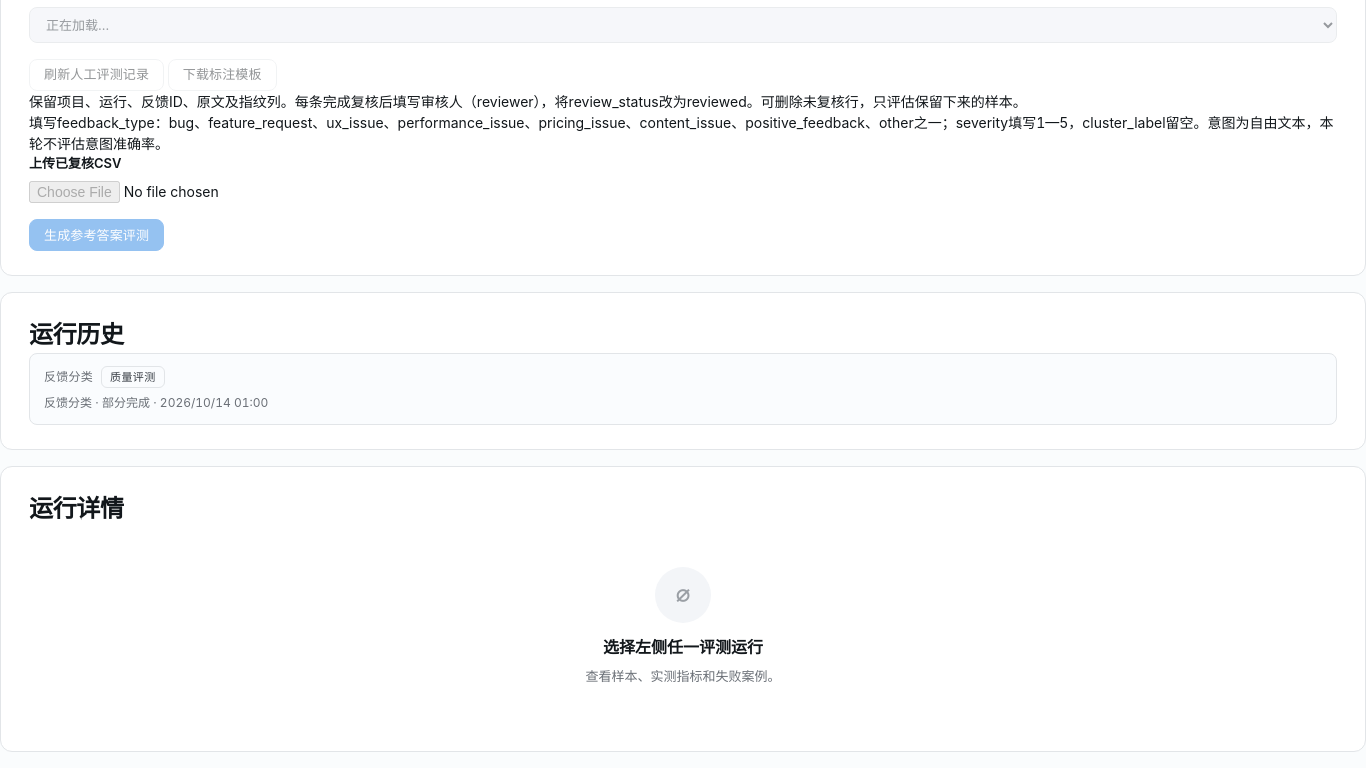
Test: Evaluation dashboard › reads the selected project run and separates actual from documented targets
(page scrolled)
Step 1. Click the button with test id "eval-row-button" → (68, 377), box [30,354,1336,424]
(page scrolled)
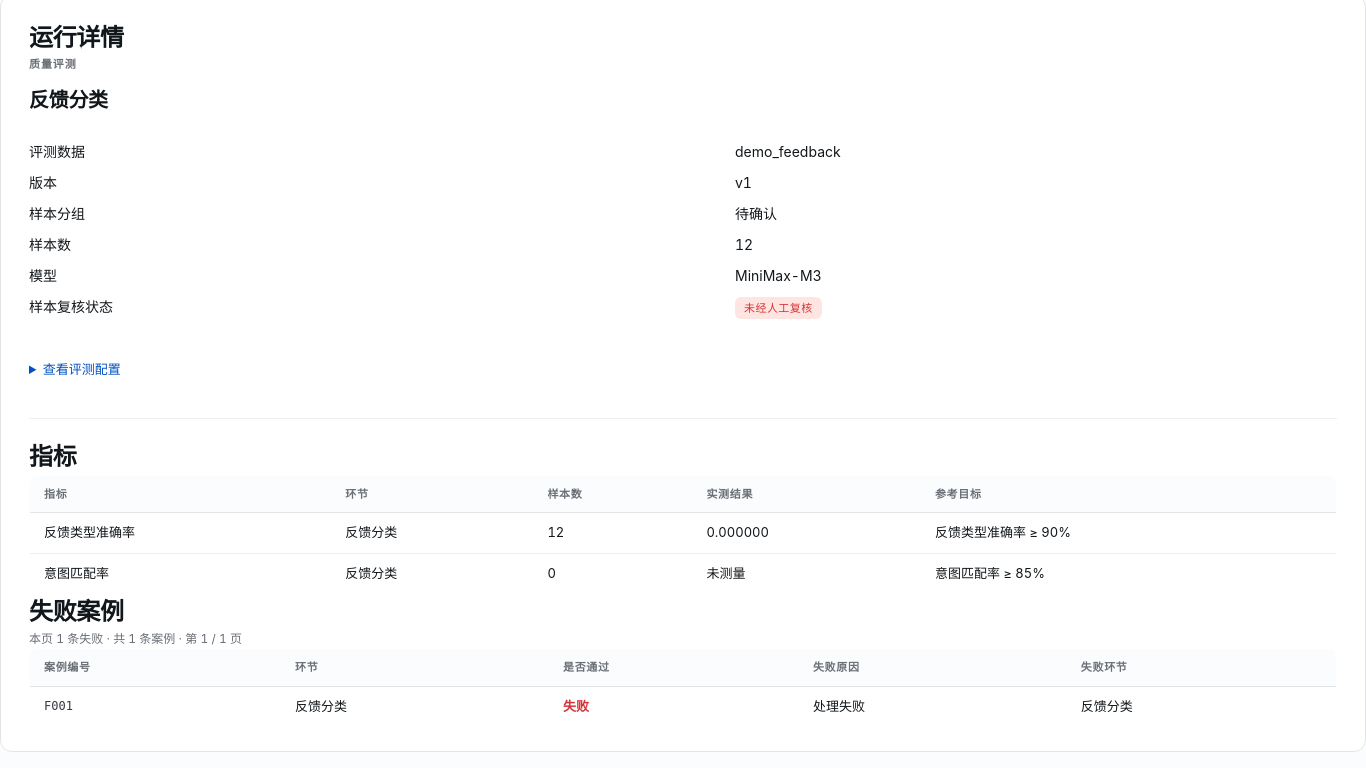
expect the number of rows with test id "eval-metric-row" is 2: met, box [30,513,1336,553]; [30,553,1336,594]
expect the text with test id "eval-dataset-name" reads "demo_feedback": met, box [735,143,841,160]
expect the text with test id "eval-sample-count" reads "12": met, box [735,236,753,253]
